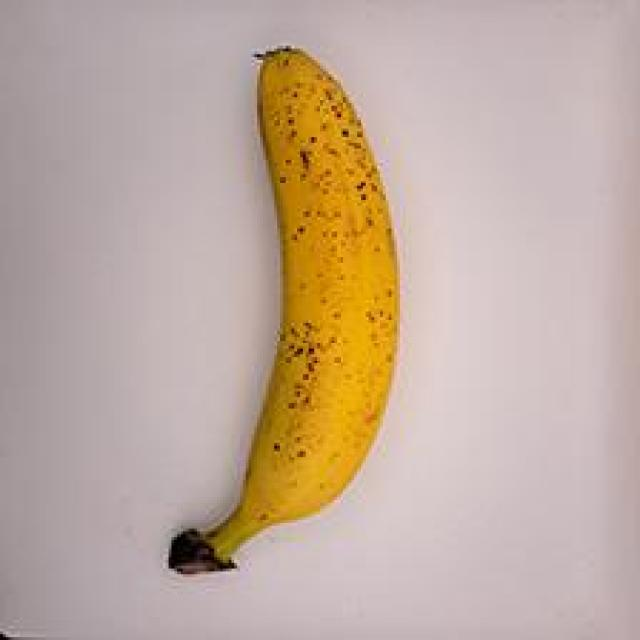Overripe: (136, 13, 435, 593)
